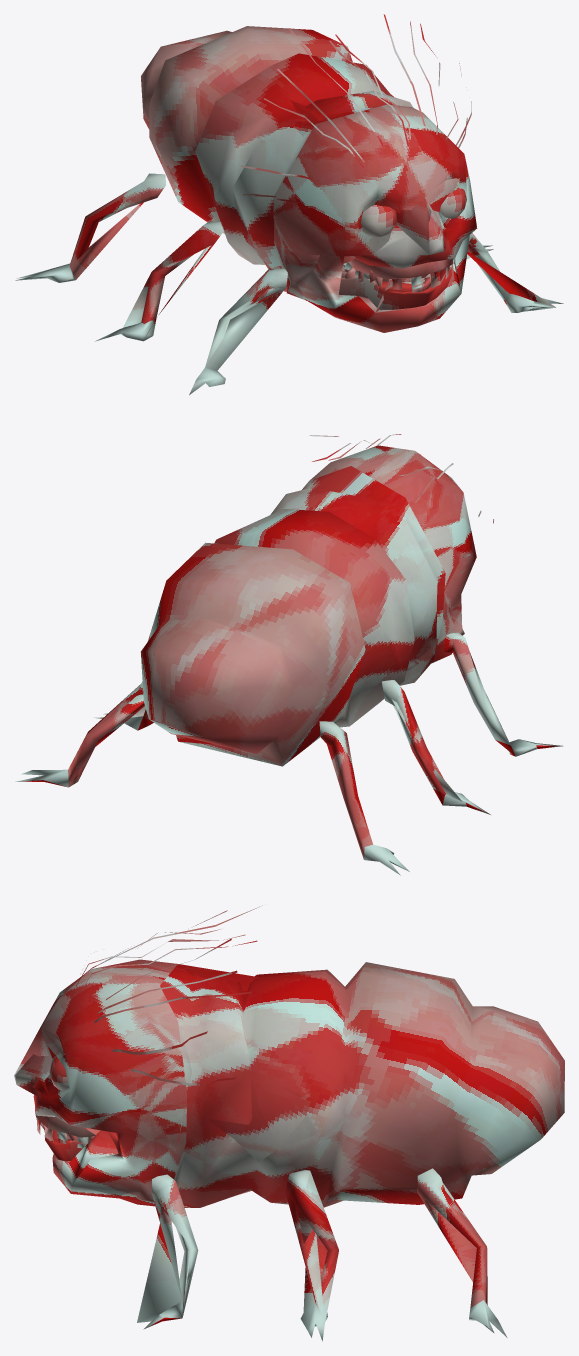
File: item_squishy_gold_bighead.glb
The picture shows the model from 3 angles, top to bottom: view 1: azimuth 30°, elevation 25°; view 2: azimuth 150°, elevation 25°; view 3: azimuth 270°, elevation 25°; orthographic projection. The views are drawn at different scales.
Visible parts, largest first — view 1: toy_bighead; view 2: toy_bighead; view 3: toy_bighead.
Part boxes in pixels (x1,y1,x2,y2): toy_bighead: [15, 14, 563, 395]; toy_bighead: [15, 434, 563, 875]; toy_bighead: [14, 905, 564, 1341].
Size of the model in its own units: 0.3158 by 0.2289 by 0.3499.
Materials: 1 (1 with a texture image).
